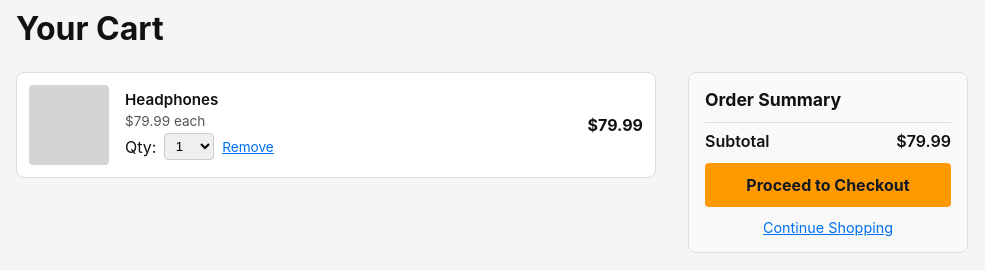
Test: Cart › removes item when Remove is clicked
Click the button with aria-label "remove headphones" at (248, 147), box [222,139,274,155]
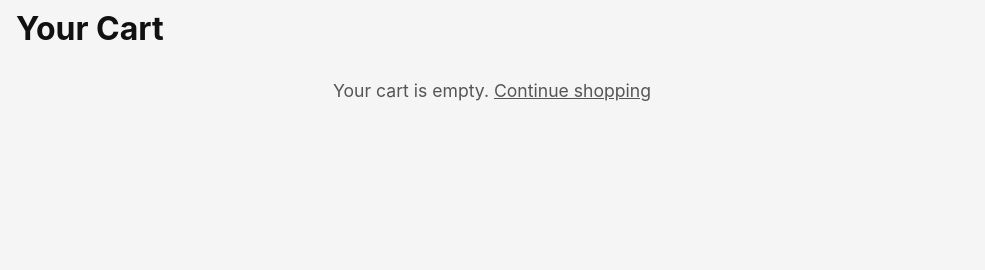
Check: the text "Your cart is empty. Continue shopping" is shown, box [333,80,651,101]
